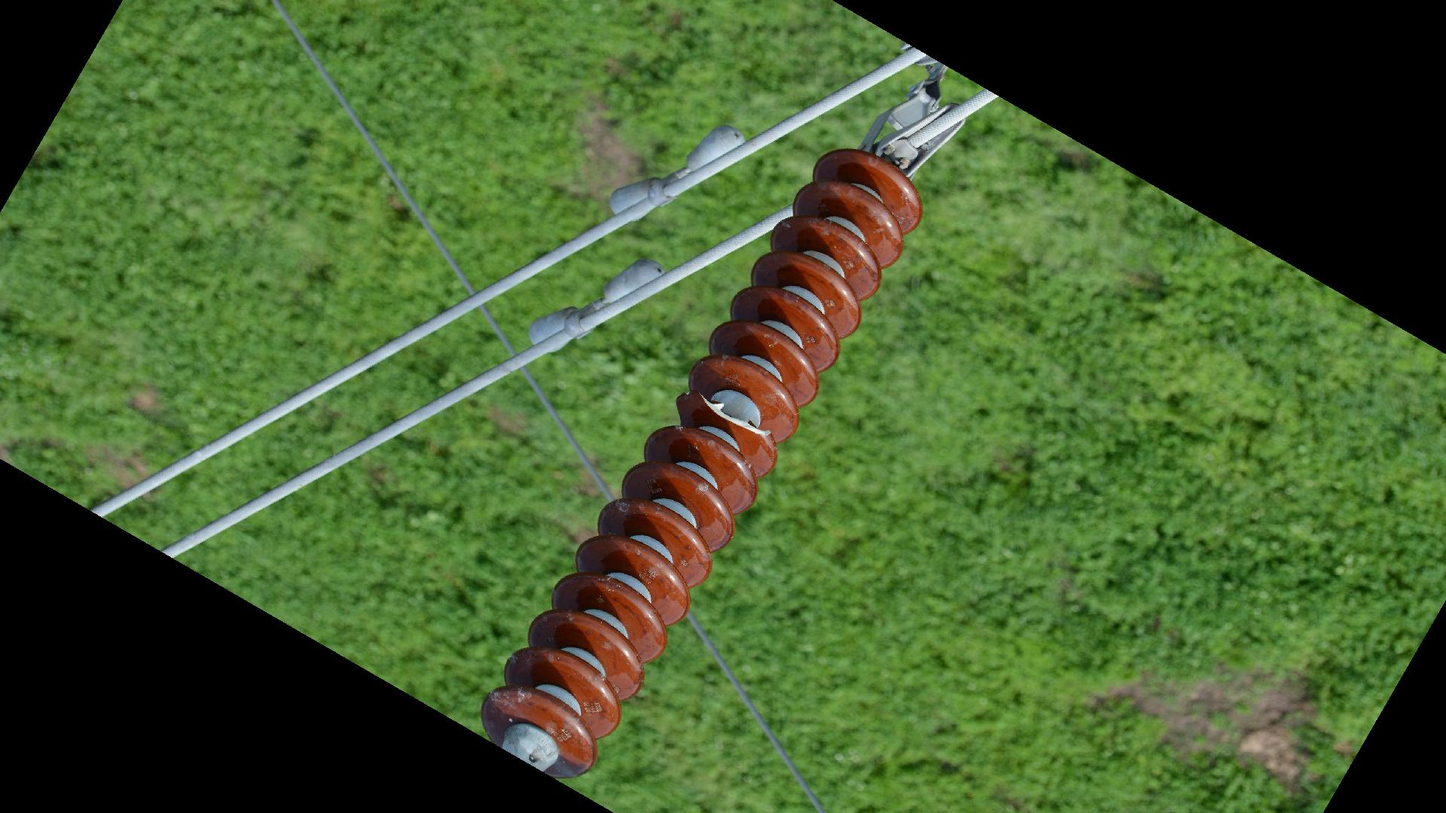insulator: (475, 144, 926, 784)
insulator_breakage: (679, 386, 776, 443)
